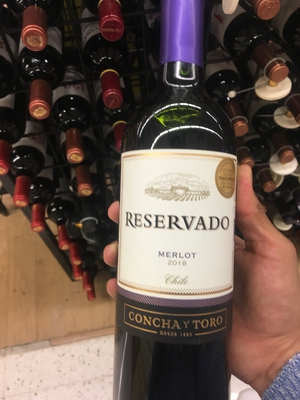reservado merlot: (108, 20, 260, 395)
